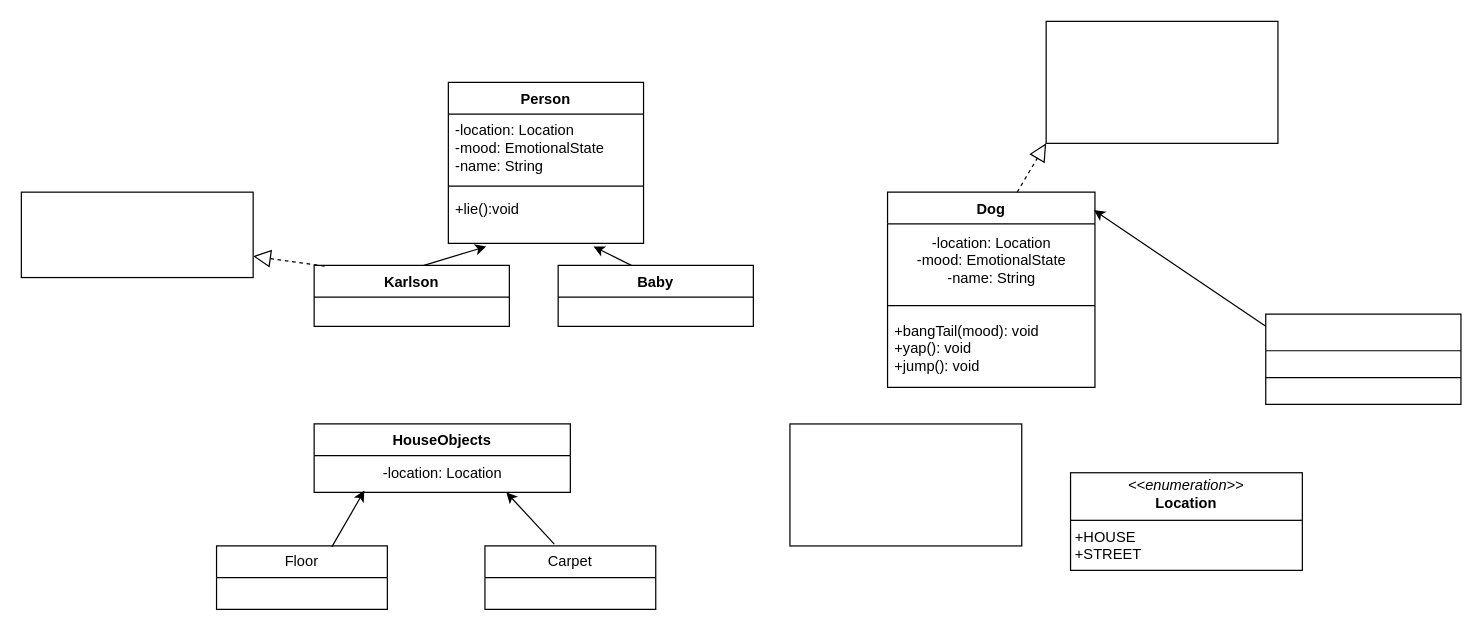
Image size: 1482x631. Some labels were removed from this diagram. Here are the shapes that lost their labels. From the top down, the centre of each, then its label:
[1161,81]: <<Interface>> Dog + lie(): void + buryHeadInto(): void + closeEyes(): void
[136,234]: <<Interface>> Flyable + fly(): void
[1363,358]: Bimbo
[905,484]: <<enumeration>> EmotionalState +HAPPY +SAD +DELIGHTED +ATTENTIONSEEKING
